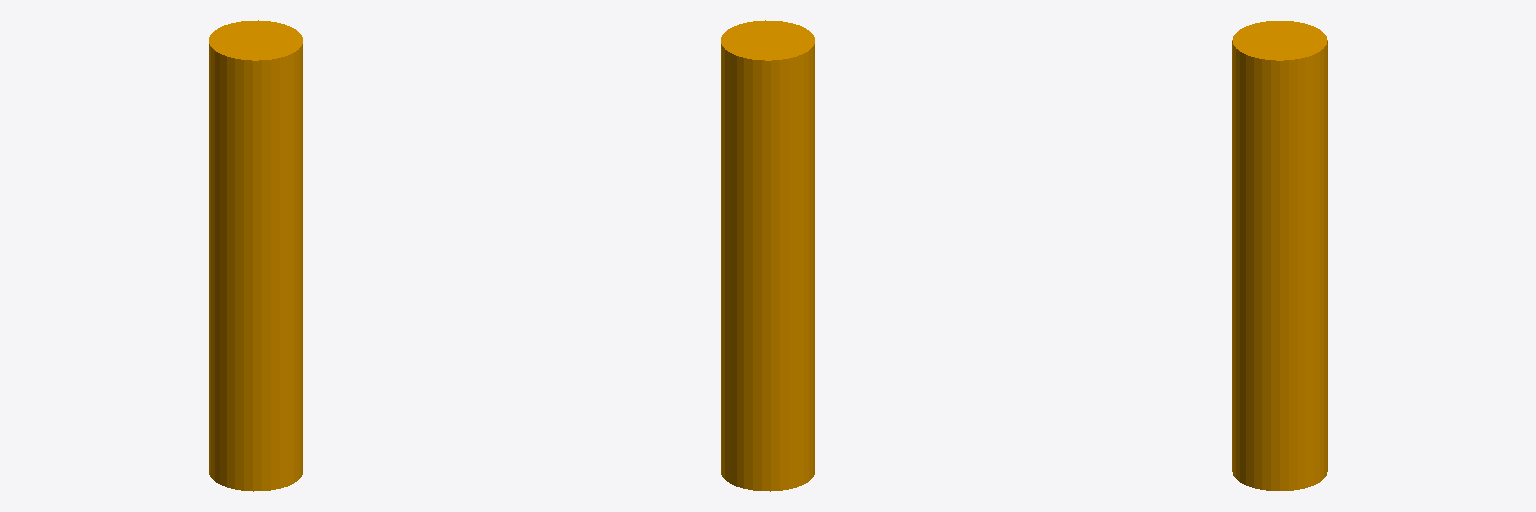
The robot description file, URDF, robot "obstacle":
<?xml version="1.0"?>
<robot name="obstacle">
  <link name="base_link">
    <visual>
      <geometry>
        <cylinder length="1" radius="0.1"/>
      </geometry>
    </visual>
  </link>
</robot>

--- What the picture shows (computed from the rendered views, not written in the file) ---
The picture shows the robot from 3 angles, left to right: view 1: azimuth 30°, elevation 25°; view 2: azimuth 150°, elevation 25°; view 3: azimuth 270°, elevation 25°; orthographic projection.
Model obstacle with 1 links and 0 joints (none), rooted at base_link, posed every joint at zero.
Visible links, largest first — view 1: base_link; view 2: base_link; view 3: base_link.
Link boxes in pixels (x1,y1,x2,y2): base_link: [209, 20, 302, 491]; base_link: [721, 20, 814, 491]; base_link: [1232, 21, 1327, 490].
Bounding box of the posed robot: 0.2 × 0.2 × 1 m (x, y, z).
Geometry: primitives only (box / cylinder / sphere), no mesh files.
